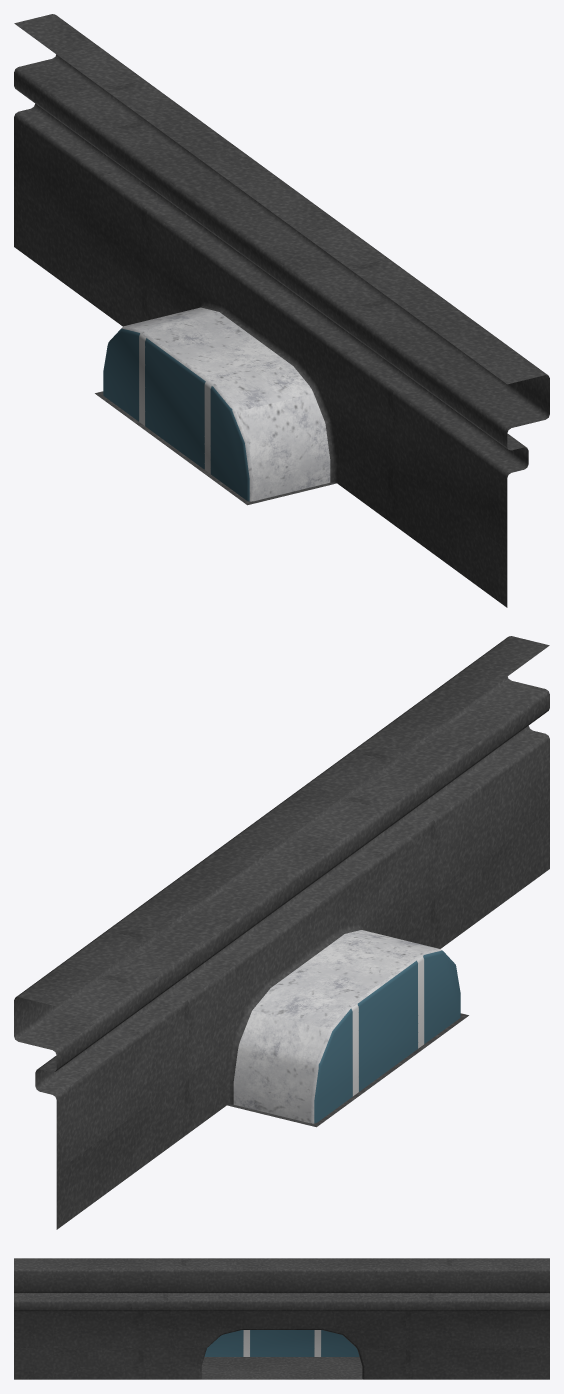
File: Basement.fbx
The picture shows the model from 3 angles, top to bottom: view 1: azimuth 30°, elevation 25°; view 2: azimuth 150°, elevation 25°; view 3: azimuth 270°, elevation 25°; orthographic projection. The views are drawn at different scales.
Visible parts, largest first — view 1: Basement; view 2: Basement; view 3: Basement.
Boxes of the visible parts, x1=… form: Basement: x1=14, y1=14, x2=549, y2=607; Basement: x1=14, y1=636, x2=549, y2=1229; Basement: x1=14, y1=1258, x2=549, y2=1379.
Bounding box in the file's own units: 200 × 50 × 31.
Materials: 2 (2 with a texture image).
